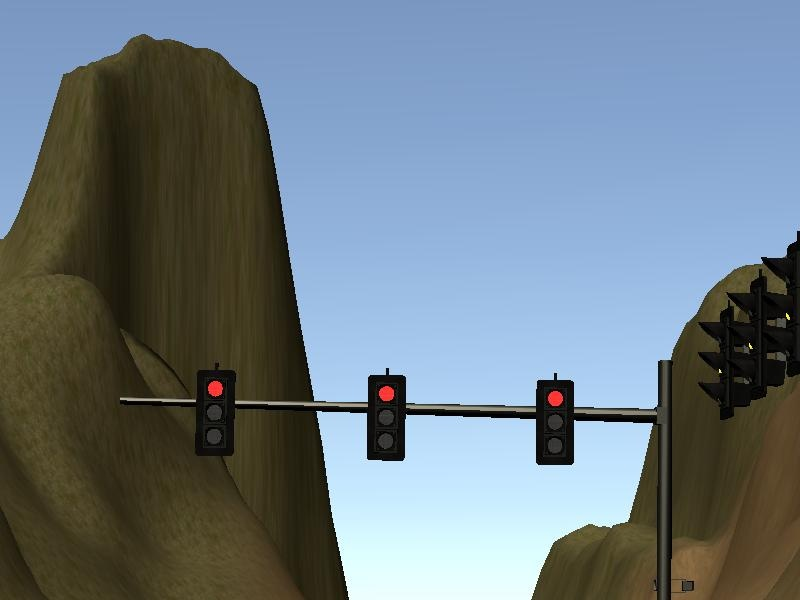RED: (193, 368, 234, 452), (366, 376, 407, 460), (533, 381, 574, 465)
